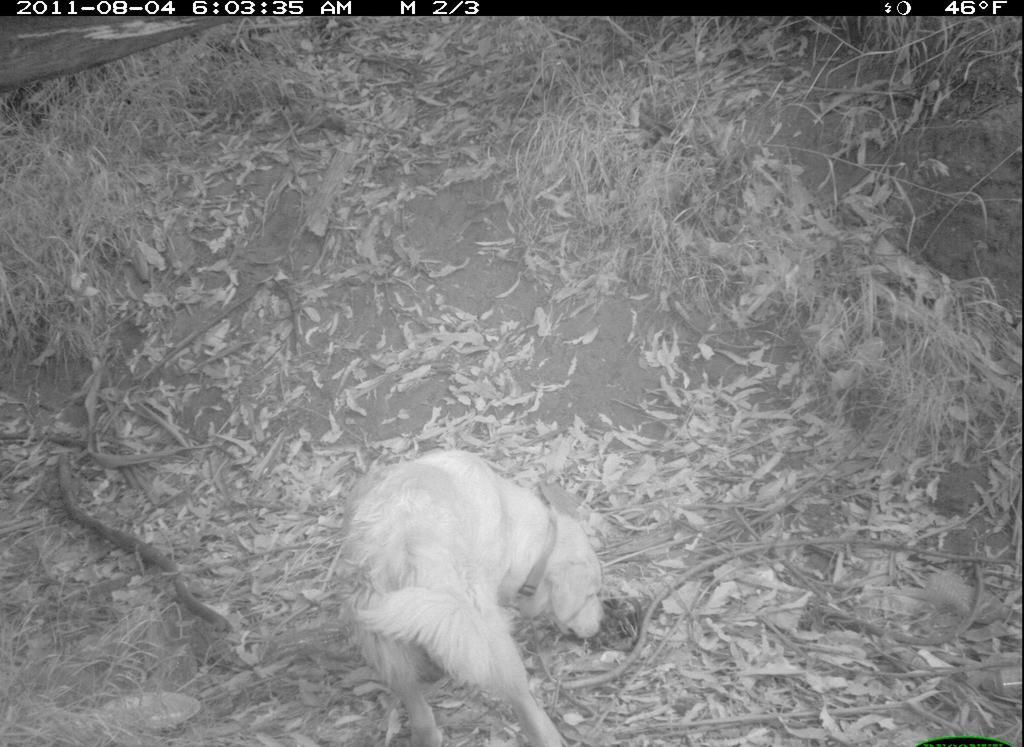dog: (340, 434, 619, 744)
